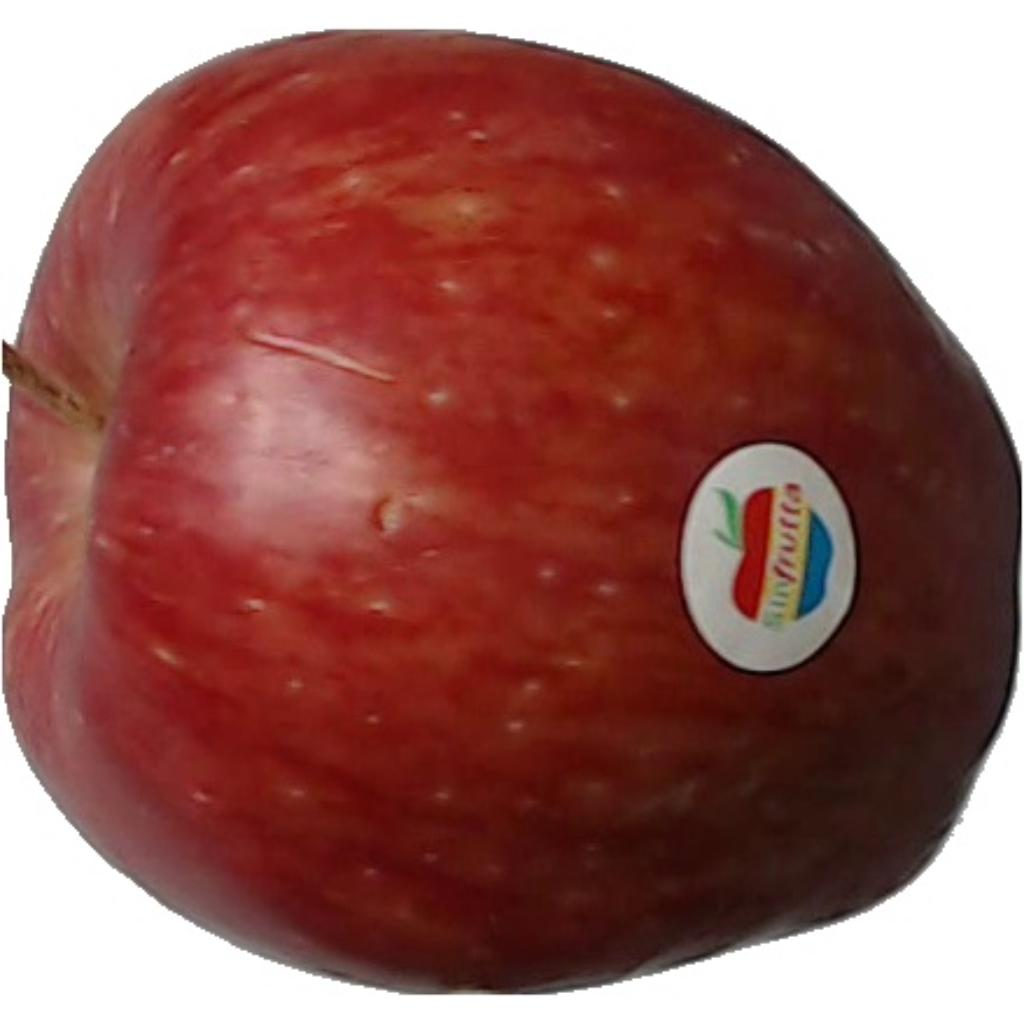apple: (4, 33, 1020, 988)
